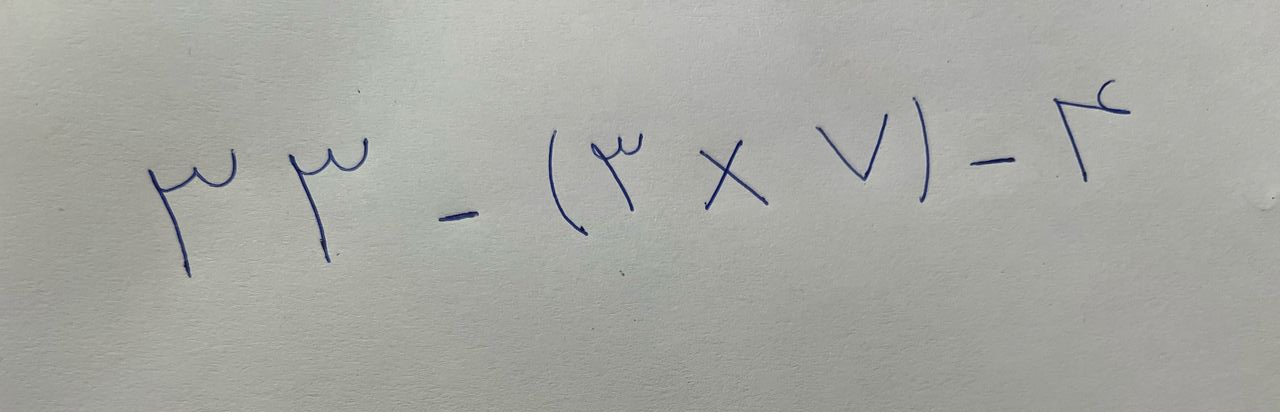character: (146, 157, 232, 284), (288, 141, 366, 265), (1057, 81, 1127, 181), (588, 128, 648, 212), (811, 117, 891, 179), (538, 128, 582, 239), (698, 142, 770, 208), (909, 88, 928, 203), (971, 152, 1019, 181), (433, 207, 488, 226)
